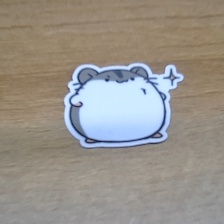mouse: (62, 60, 186, 148)
